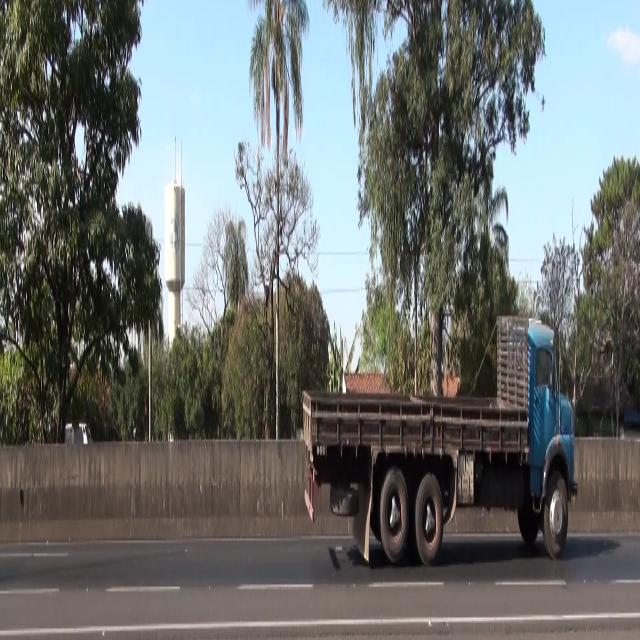-axle: (378, 467, 408, 562), (415, 473, 444, 570), (544, 466, 570, 561)
